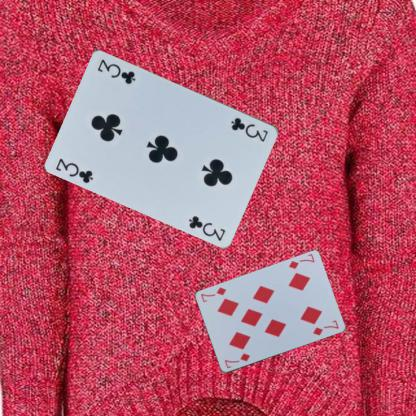3c: (229, 114, 270, 143), (53, 156, 95, 184)
7d: (222, 350, 251, 370), (286, 252, 315, 270)
